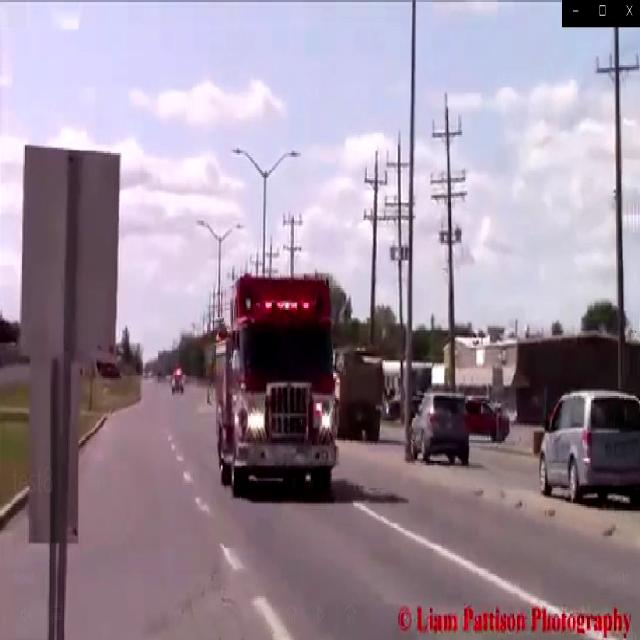emergency: (208, 268, 343, 512), (168, 366, 192, 398)
